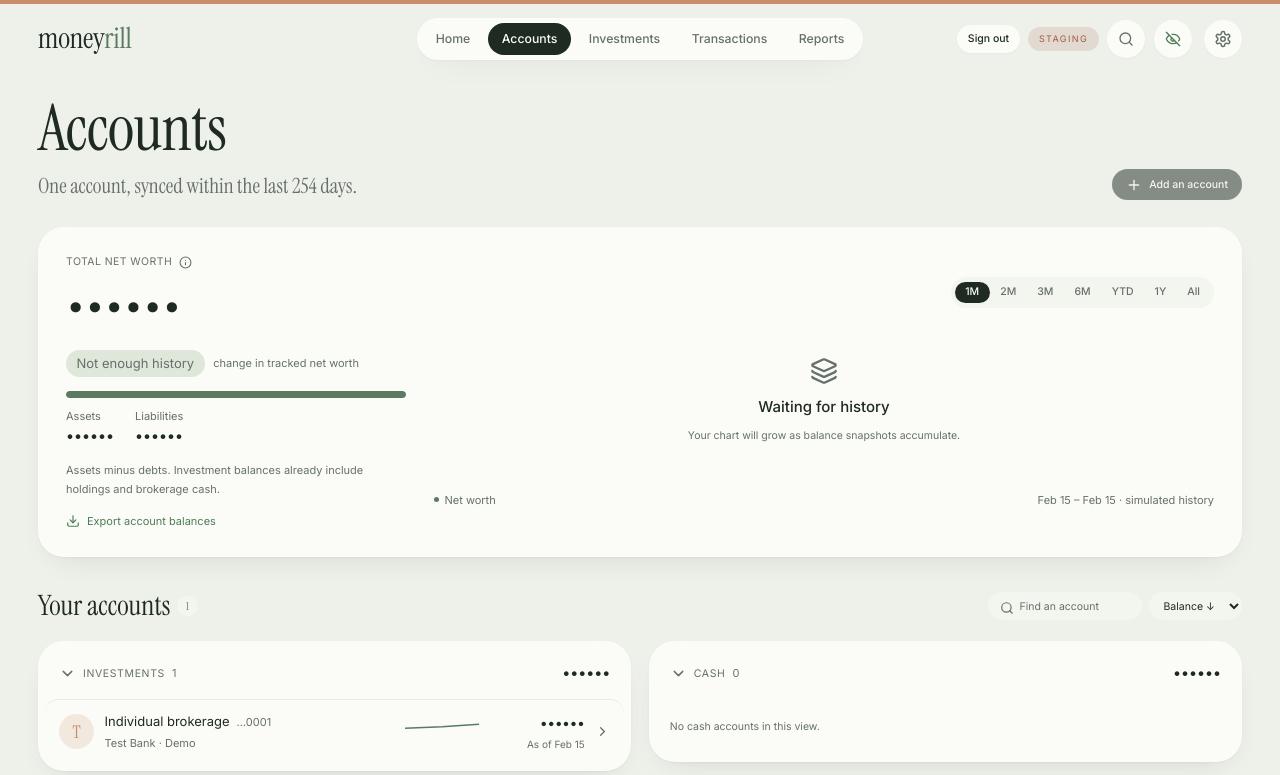
Test: Portfolio return › the amounts follow Private mode; the percentage stays
Expected: the text "TOTAL NET WORTH" is shown, [66,255,192,269]
What coordinates should you click on to do the following:
click the link "Investments"
I would click on:
 (624, 38)
Its box is [589,31,660,46].
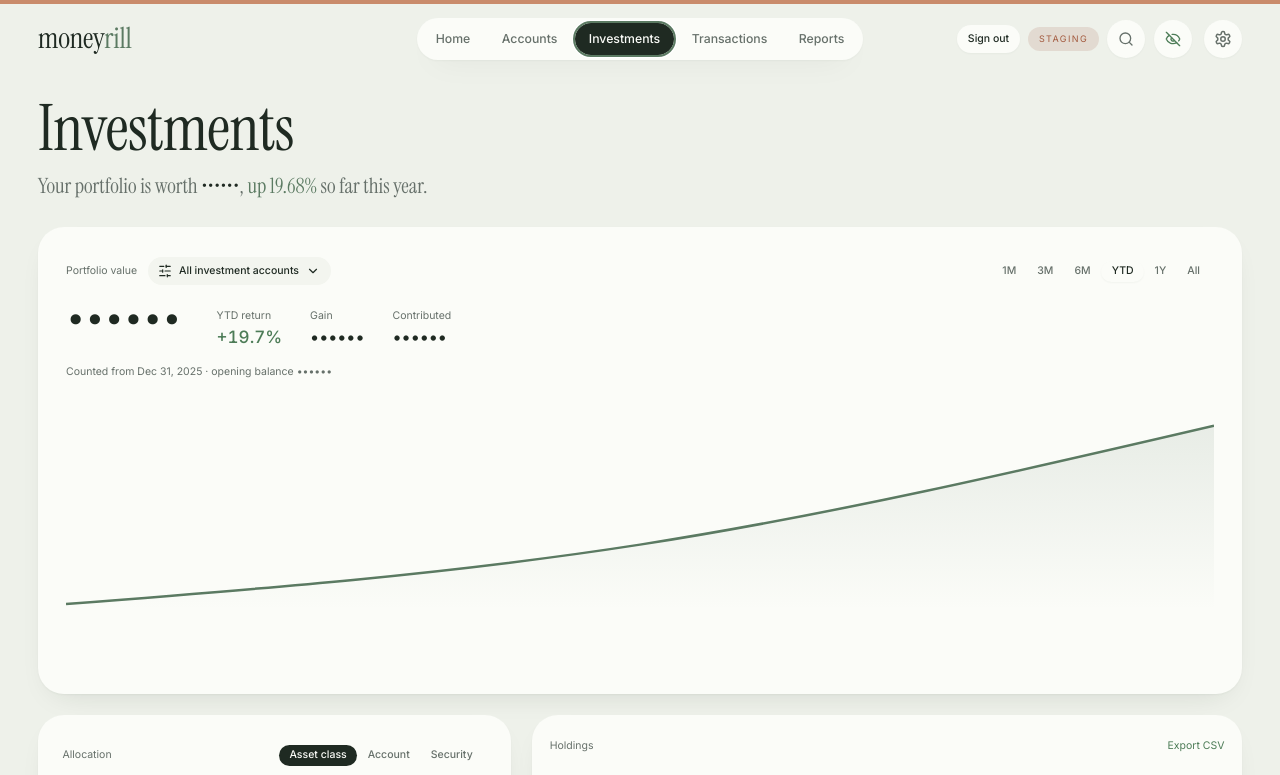
Result: the text "Portfolio value" is shown at [66,264,137,278]
Result: the text with test id "counted-from" shows "opening balance ••••••" at [66,365,332,378]
Result: the text "+19.7%" is shown at [217,326,282,349]
